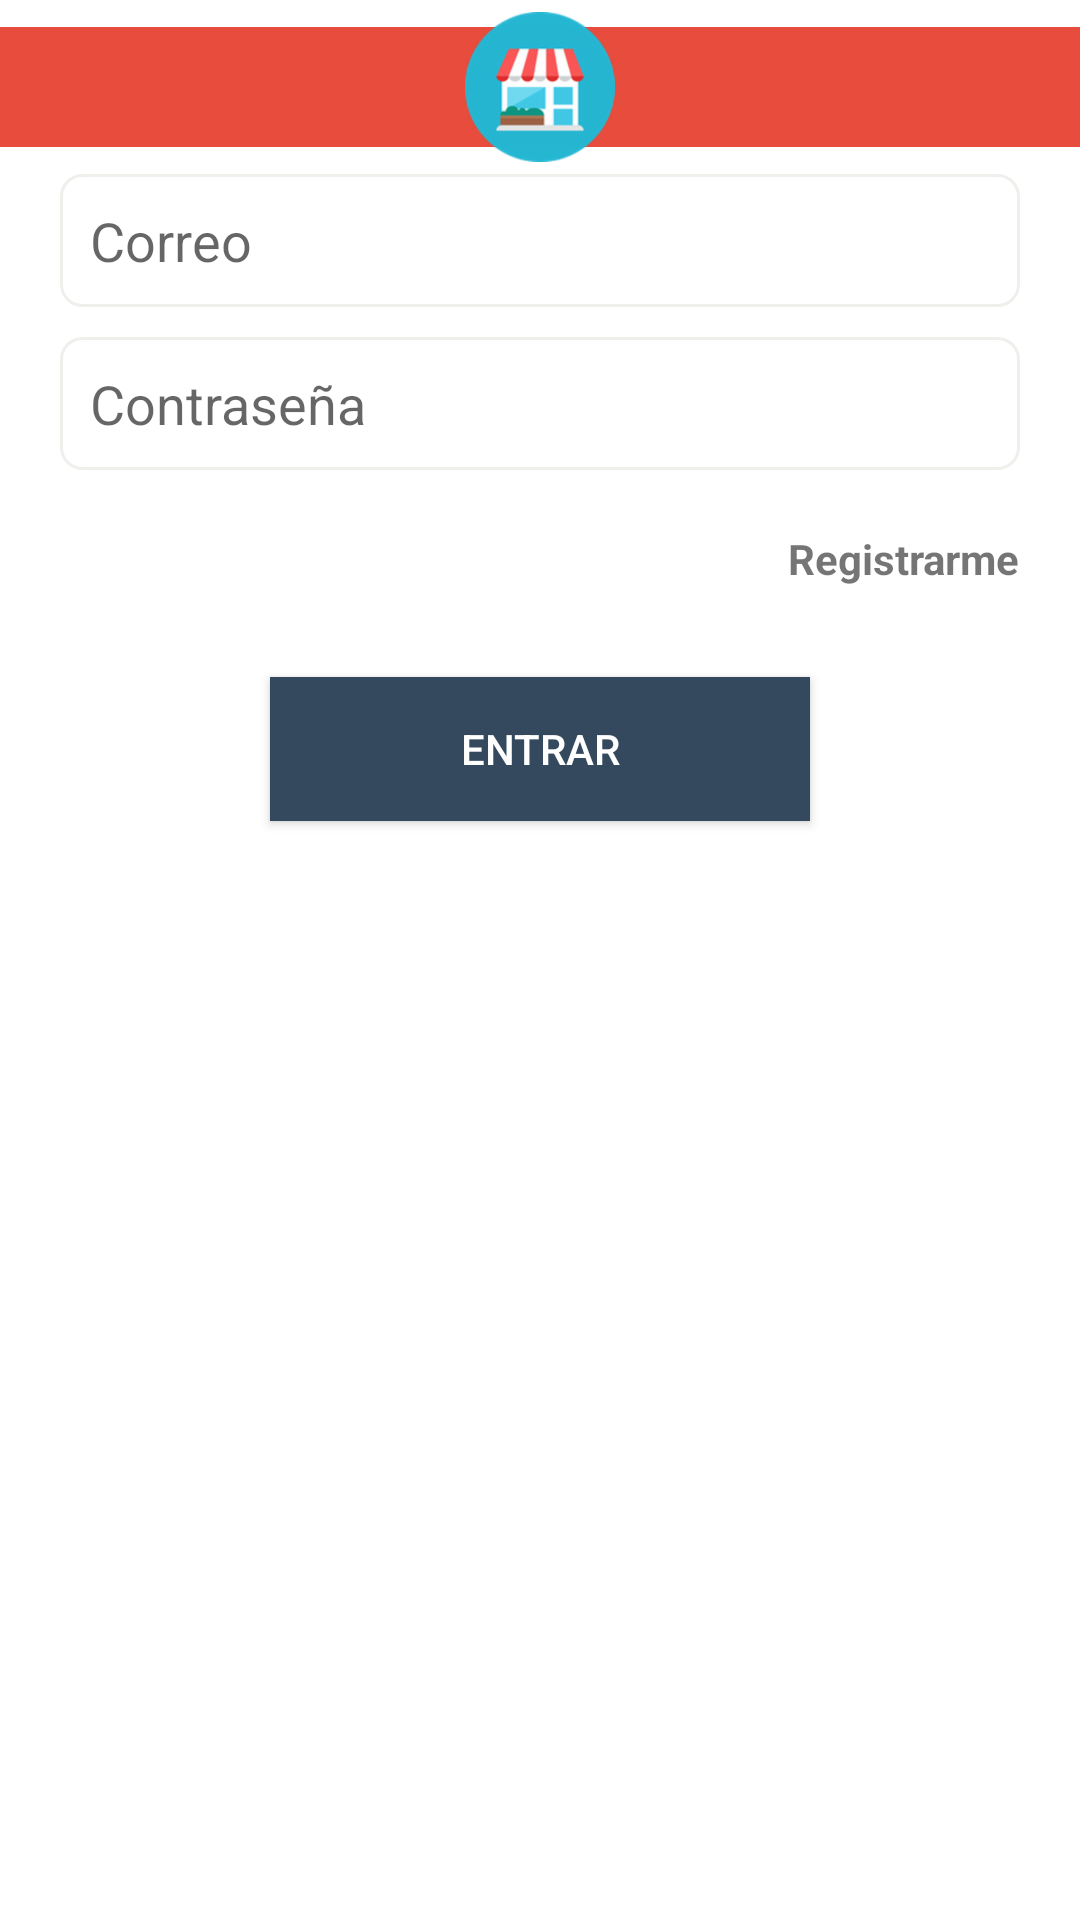

Named icons in this screenshot (1080px x 1920px) and their centers, point (x, y):
iconapp: point (540, 87)
